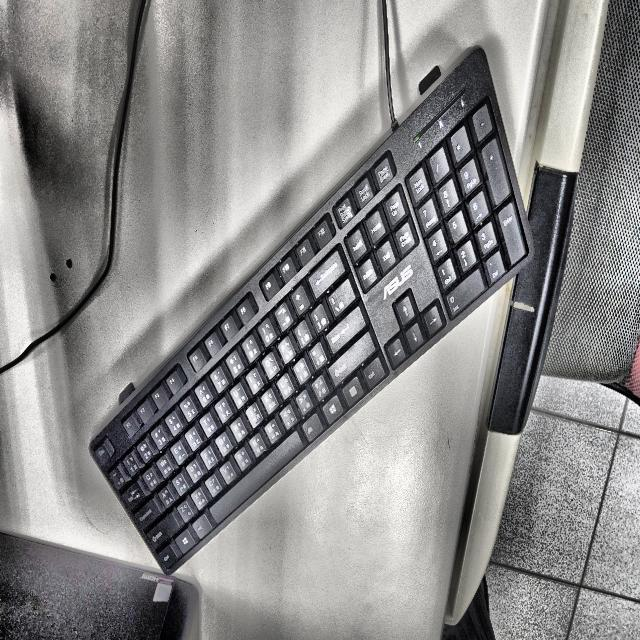Keyboard: (89, 47, 532, 572)
